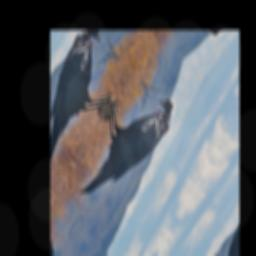Crow: (65, 64, 181, 226)
